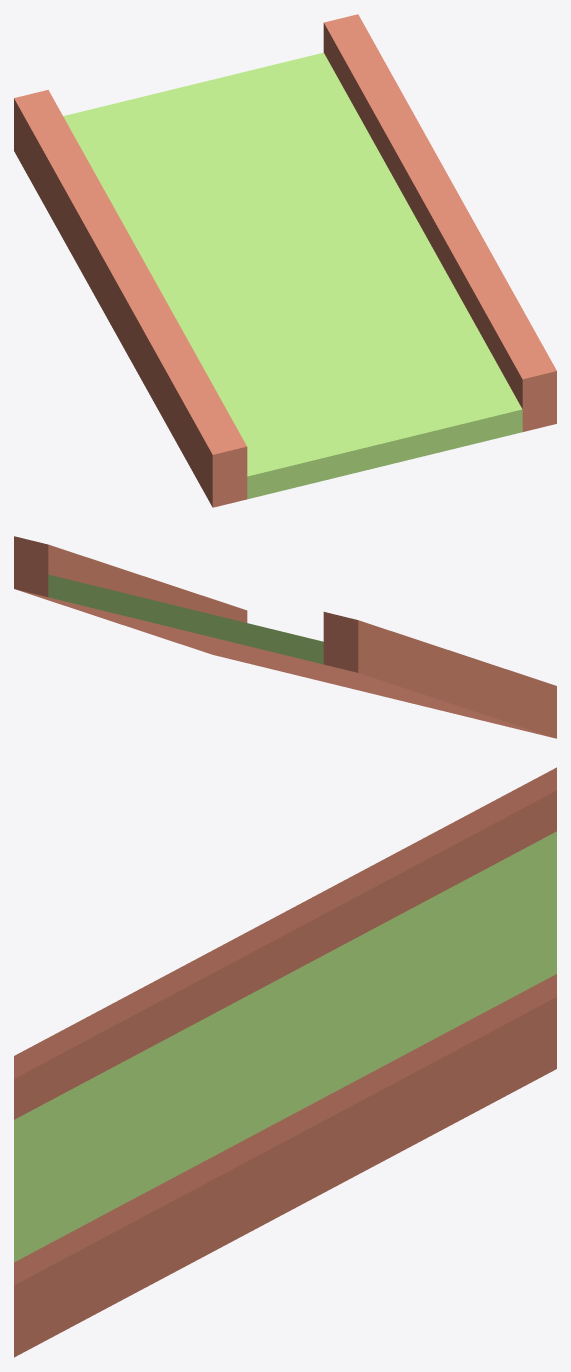
Rendered from Ramp_4_01.glb.
3 views of the same model, one above another, from view 1: azimuth 30°, elevation 25°; view 2: azimuth 150°, elevation 25°; view 3: azimuth 270°, elevation 25° (orthographic). The views are drawn at different scales.
Parts seen in each view (by area): view 1: Mesh1 Ramp_4 Model; view 2: Mesh1 Ramp_4 Model; view 3: Mesh1 Ramp_4 Model.
Part boxes in pixels (x1=…): Mesh1 Ramp_4 Model: x1=14, y1=14, x2=556, y2=507; Mesh1 Ramp_4 Model: x1=14, y1=536, x2=556, y2=738; Mesh1 Ramp_4 Model: x1=14, y1=767, x2=556, y2=1357.
Size of the model in its own units: 3 by 2.2 by 3.
